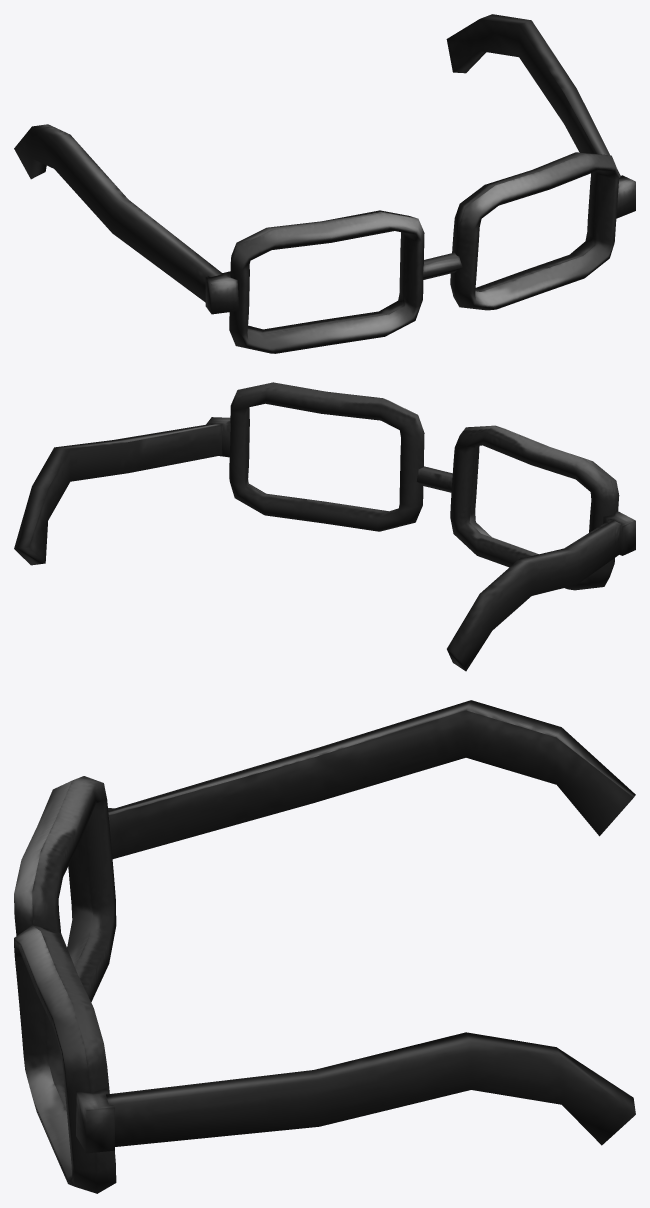
The model's file is glass.fbx.
3 renders of one model, top to bottom at view 1: azimuth 30°, elevation 25°; view 2: azimuth 150°, elevation 25°; view 3: azimuth 270°, elevation 25°, orthographic. The views are drawn at different scales.
Parts seen in each view (by area): view 1: polySurface22; view 2: polySurface22; view 3: polySurface22.
Part boxes in pixels (x1,y1,x2,y2): polySurface22: [14, 14, 635, 353]; polySurface22: [14, 382, 635, 671]; polySurface22: [14, 700, 635, 1193].
Bounding box in the file's own units: 62.57 × 17.89 × 48.01.
Materials: 1 (1 with a texture image).
